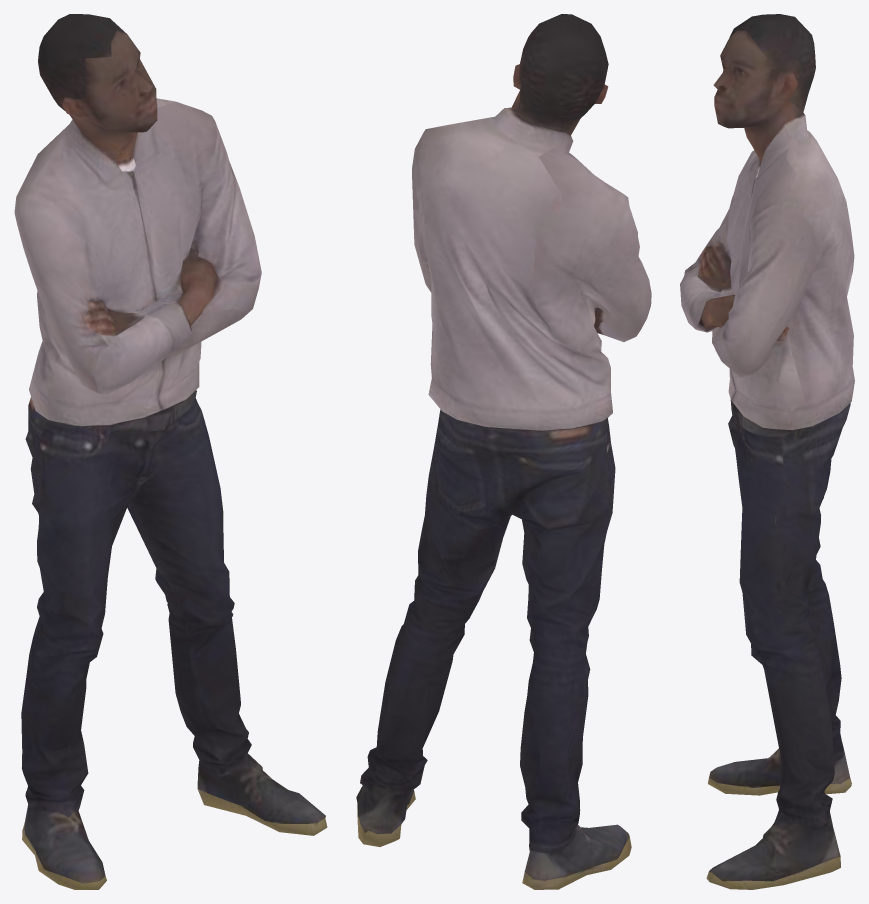
3 views of the same model, side by side, from view 1: azimuth 30°, elevation 25°; view 2: azimuth 150°, elevation 25°; view 3: azimuth 270°, elevation 25° (orthographic). The views are drawn at different scales.
Parts seen in each view (by area): view 1: Cas_Sum_Man_RtStand_366_StingrayPBS1_0; view 2: Cas_Sum_Man_RtStand_366_StingrayPBS1_0; view 3: Cas_Sum_Man_RtStand_366_StingrayPBS1_0.
Boxes of the visible parts, <box> form: Cas_Sum_Man_RtStand_366_StingrayPBS1_0: <box>14,14,327,889</box>; Cas_Sum_Man_RtStand_366_StingrayPBS1_0: <box>356,14,651,889</box>; Cas_Sum_Man_RtStand_366_StingrayPBS1_0: <box>680,14,854,889</box>.
Size of the model in its own units: 0.6153 by 1.76 by 0.3583.
Materials: 1 (1 with a texture image).
